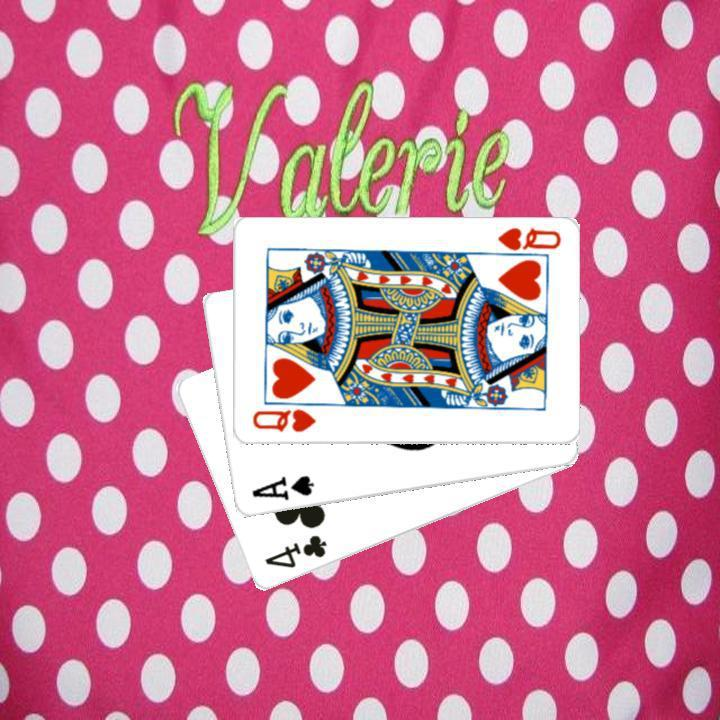4: (260, 531, 329, 571)
A: (247, 472, 315, 503)
Q: (484, 224, 562, 260), (247, 405, 317, 435)
